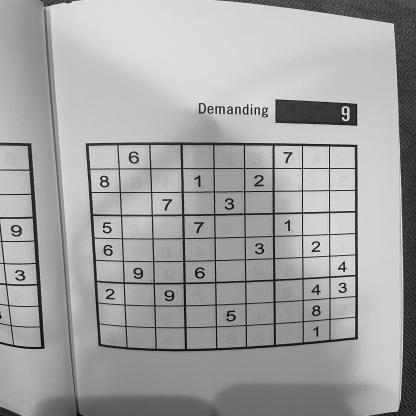sudoku: (80, 138, 368, 354)
